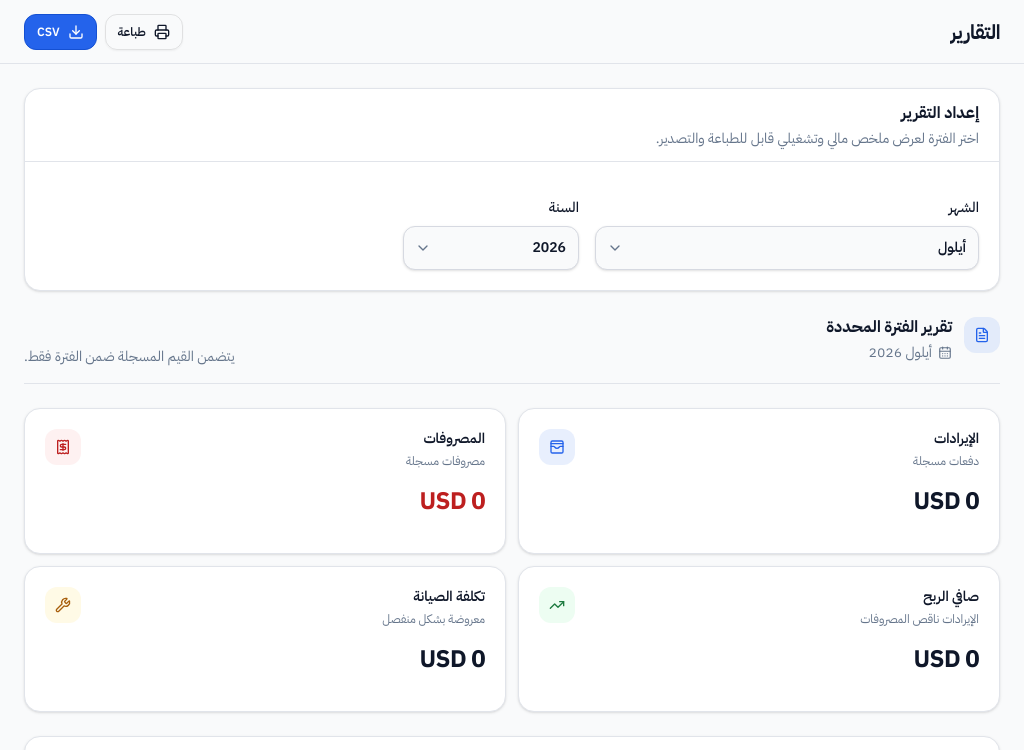
Test: ReportsPage › exports the summary as a CSV download
This screenshot has width=1024, height=750.
Step 1. Click the button "CSV" → [60, 32], box [24,14,96,50]
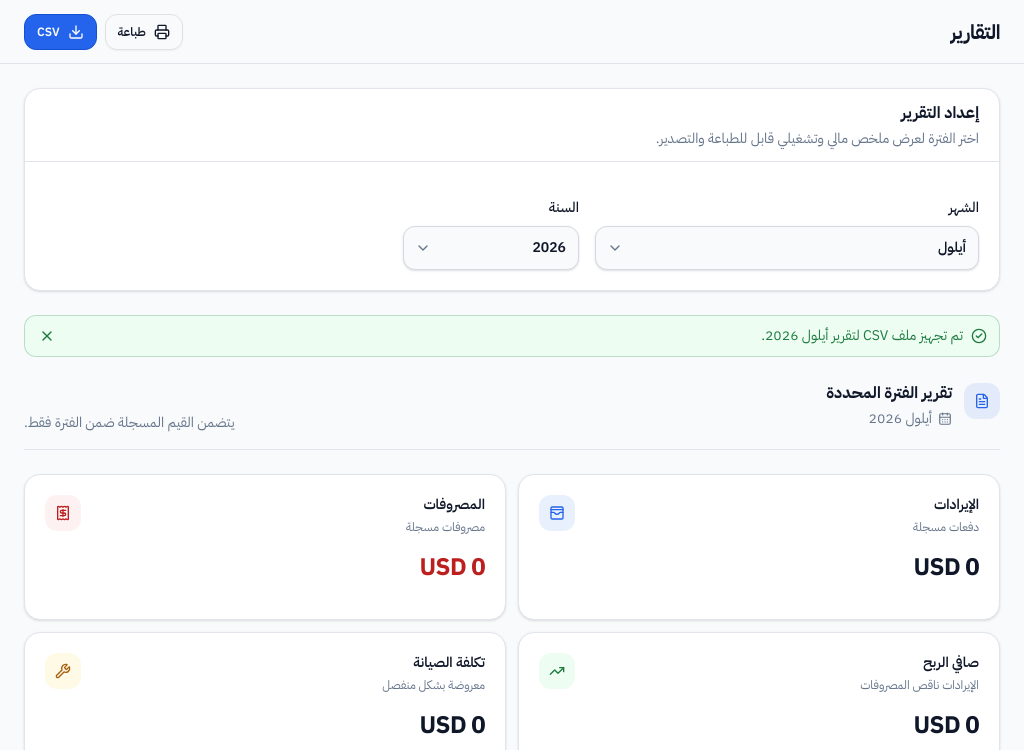
Expected: the text "تم تجهيز ملف CSV لتقرير أيلول 2026." is shown, [761,325,963,346]
Step 2. Click the button named "إغلاق" → [47, 336], box [33,322,61,350]
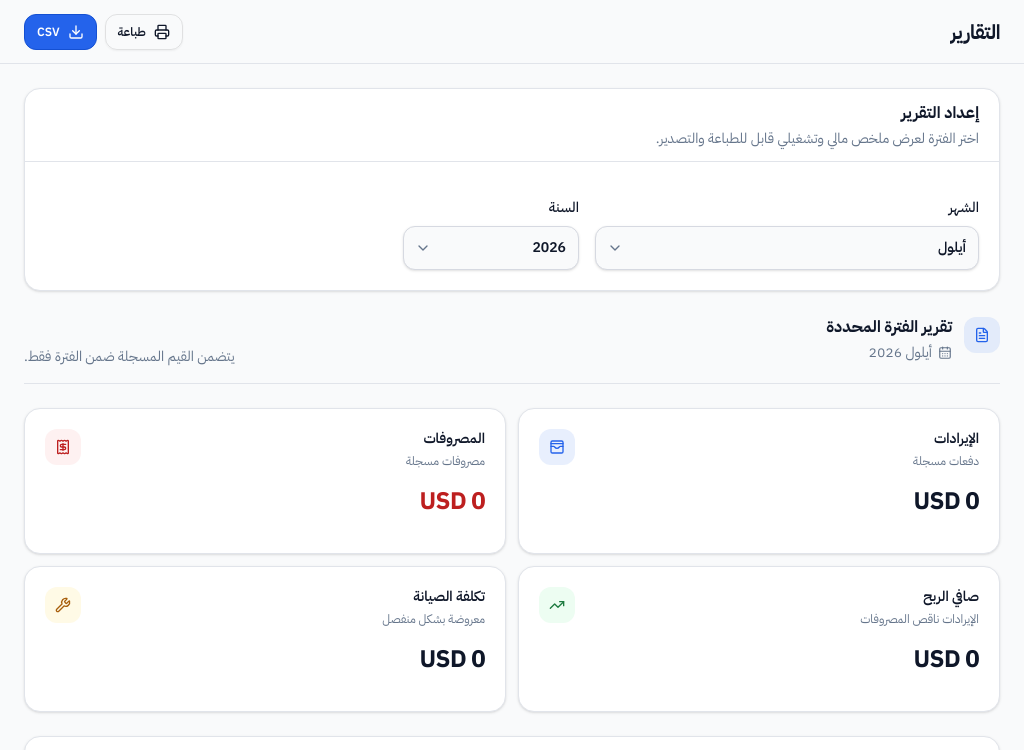
Expected: the text "تم تجهيز ملف CSV" is gone
